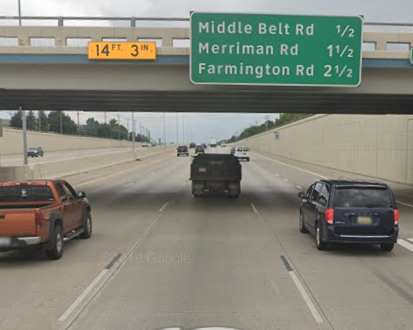1: (92, 42, 100, 58)
3: (127, 42, 140, 57)
4: (98, 41, 110, 60)
overheadsign: (87, 39, 156, 62)
